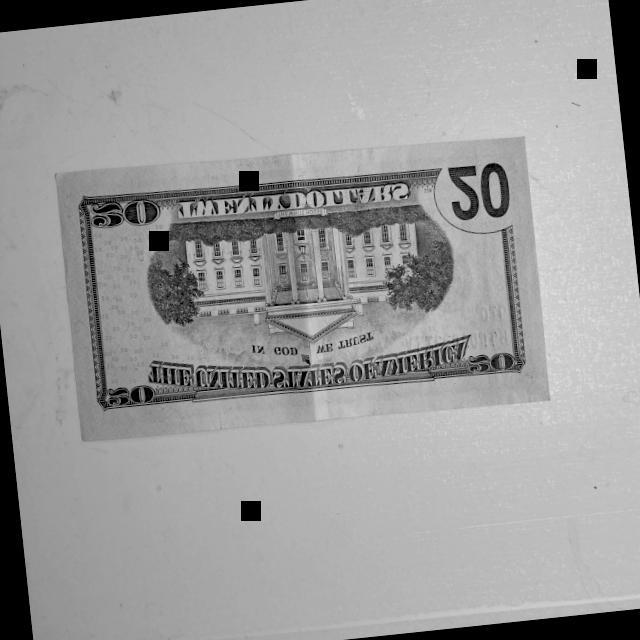twenty: (50, 120, 555, 454)
